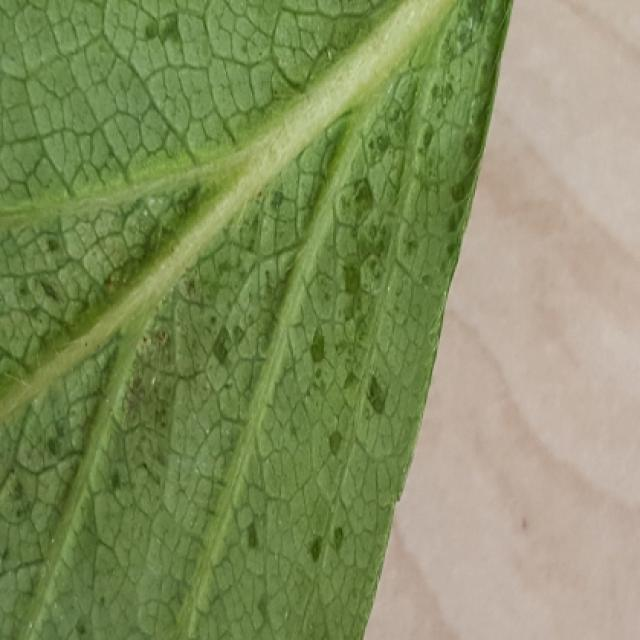Angular Leafspot: (2, 0, 514, 638)
